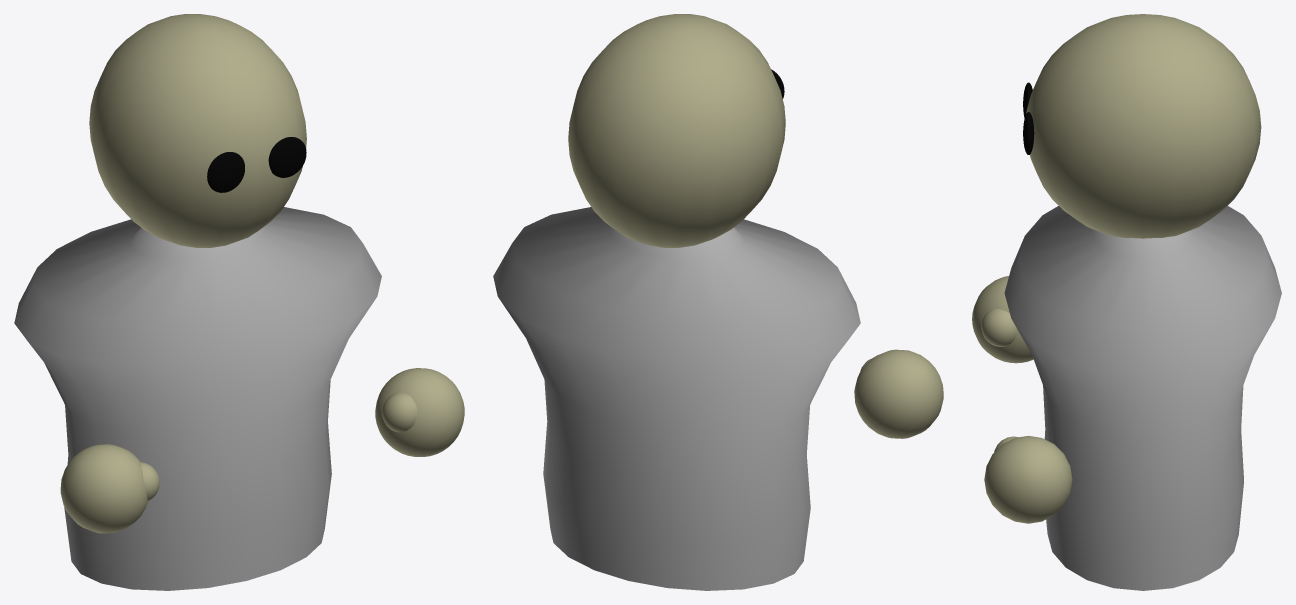
The model's file is PersonPawn_06.fbx.
3 views of the same model, side by side, from view 1: azimuth 30°, elevation 25°; view 2: azimuth 150°, elevation 25°; view 3: azimuth 270°, elevation 25° (orthographic).
Visible parts, largest first — view 1: Body, Hand_R, Hand_L; view 2: Body, Hand_R; view 3: Body, Hand_L, Hand_R.
Part boxes in pixels (x1,y1,x2,y2): Body: (14, 14, 381, 590); Hand_R: (60, 444, 159, 533); Hand_L: (375, 368, 464, 456); Body: (493, 14, 860, 590); Hand_R: (854, 349, 943, 438); Body: (1004, 14, 1281, 590); Hand_L: (984, 435, 1072, 523); Hand_R: (972, 276, 1033, 363).
Bounding box in the file's own units: 104 × 130 × 71.52.
